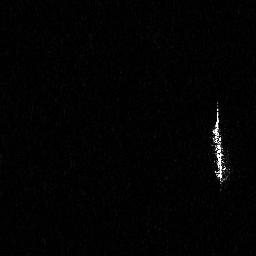ship: (206, 98, 232, 195)
